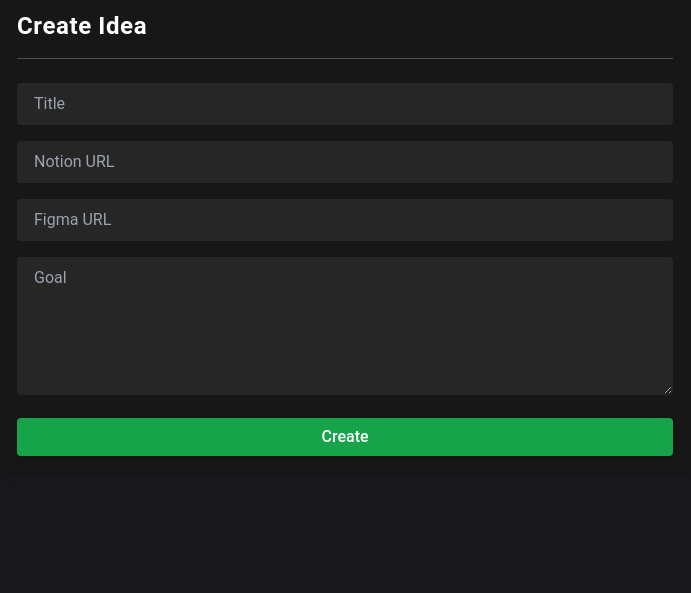
Test case: CreateIdea Page › should be able to show error messages for invalid fields
Type "https://othersite.com/" into the field with placeholder "Notion URL".
click(345, 162); type("https://othersite.com/")  # box left=17, top=141, right=673, bottom=183
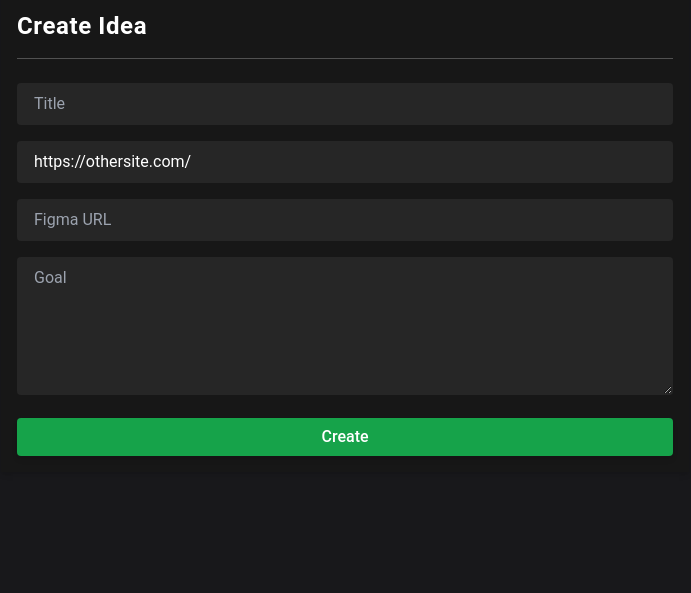
Type "https://othersite.com/" into the field with placeholder "Figma URL".
click(345, 220); type("https://othersite.com/")  # box left=17, top=199, right=673, bottom=241
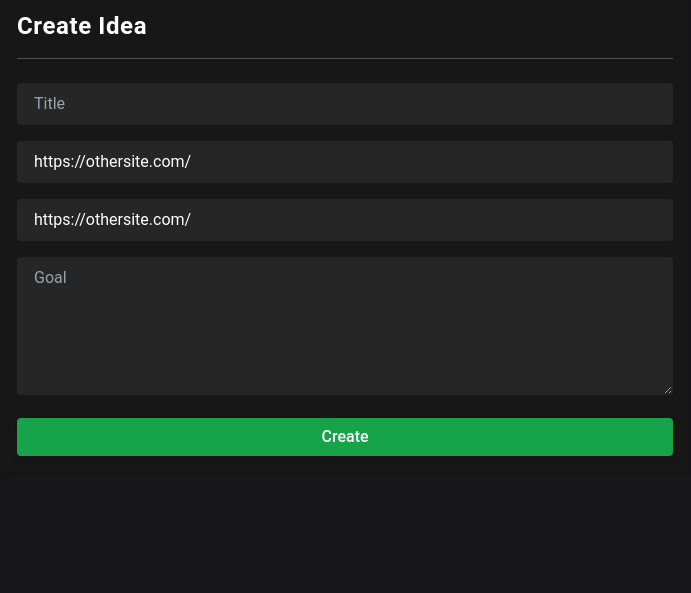
Submit the form from the button "Create", box left=17, top=418, right=673, bottom=456
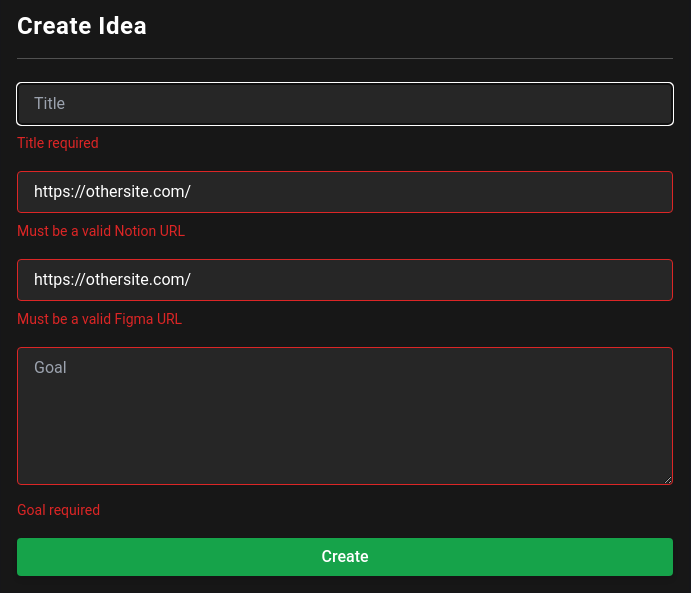
expect the text "Title required" is shown: met, box left=17, top=133, right=99, bottom=153
expect the text "Must be a valid Figma URL" is shown: met, box left=17, top=309, right=182, bottom=329
expect the text "Goal required" is shown: met, box left=17, top=500, right=100, bottom=520
